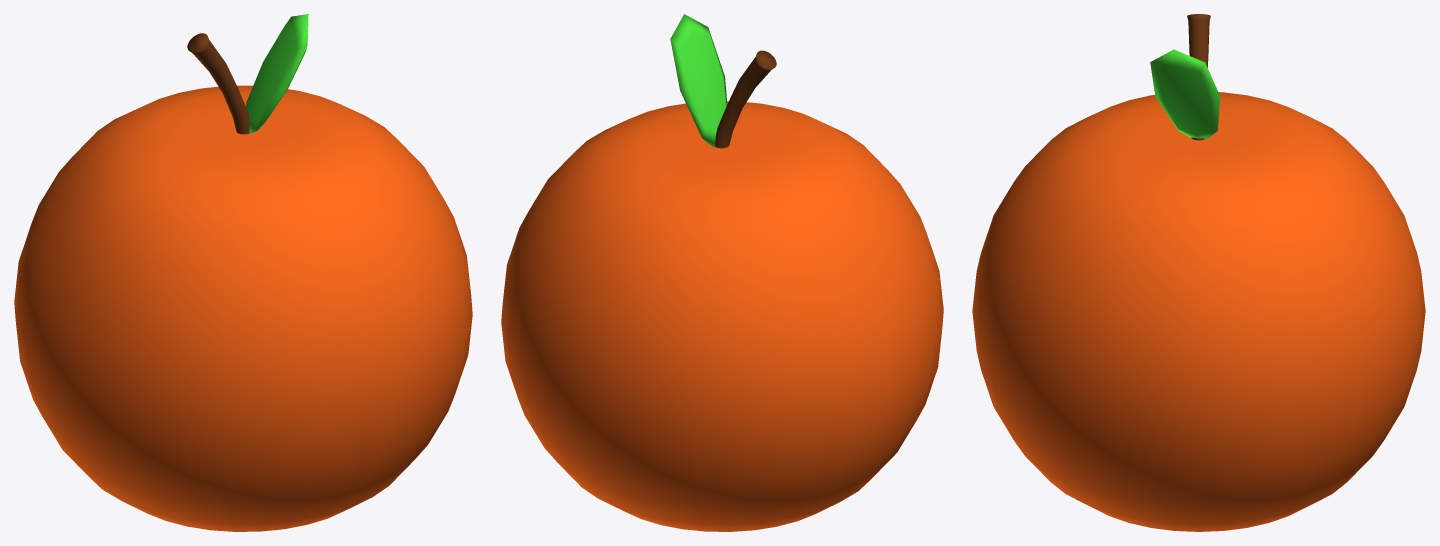
File: orange.fbx
The picture shows the model from 3 angles, left to right: view 1: azimuth 30°, elevation 25°; view 2: azimuth 150°, elevation 25°; view 3: azimuth 270°, elevation 25°; orthographic projection. The views are drawn at different scales.
Parts seen in each view (by area): view 1: #orange; view 2: #orange; view 3: #orange.
Part boxes in pixels (<box>): #orange: <box>14,14,472,531</box>; #orange: <box>501,14,943,531</box>; #orange: <box>972,14,1425,531</box>.
Size of the model in its own units: 200 by 228 by 200.
